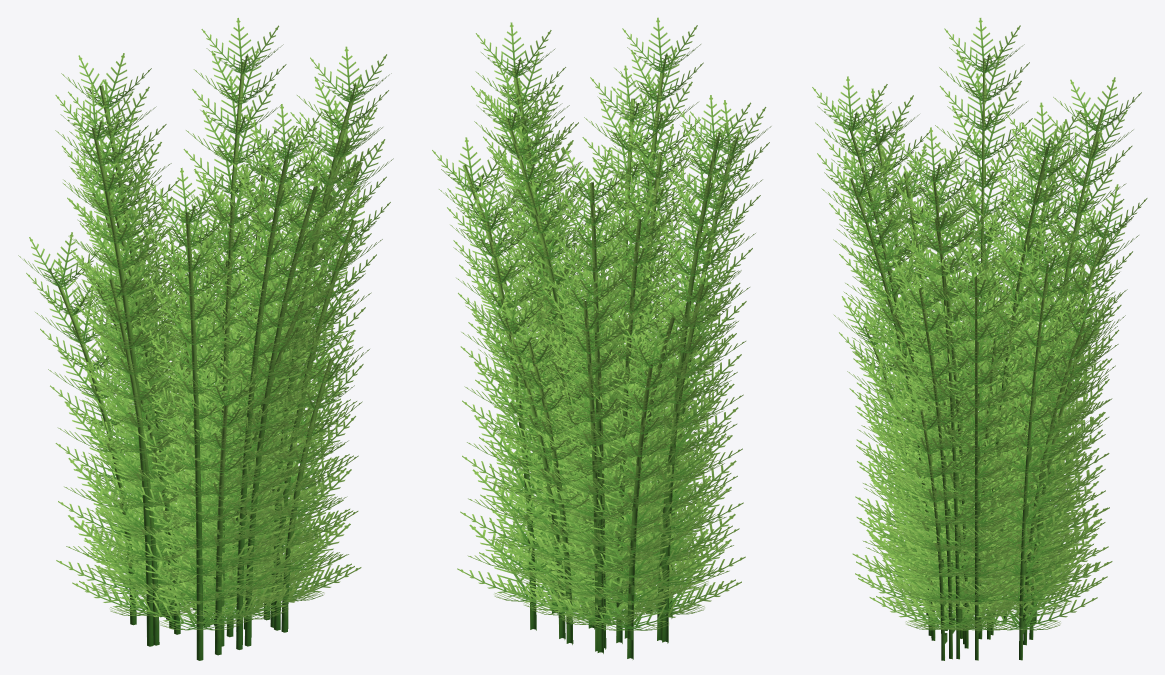
File: limnophila.glb
3 views of the same model, side by side, from view 1: azimuth 30°, elevation 25°; view 2: azimuth 150°, elevation 25°; view 3: azimuth 270°, elevation 25° (orthographic). The views are drawn at different scales.
Visible parts, largest first — view 1: SwayLimno0, SwayLimno1; view 2: SwayLimno0, SwayLimno1; view 3: SwayLimno0, SwayLimno1.
Boxes of the visible parts, <box> form: SwayLimno0: <box>55,18,393,660</box>; SwayLimno1: <box>18,53,390,655</box>; SwayLimno0: <box>432,17,771,652</box>; SwayLimno1: <box>467,65,740,659</box>; SwayLimno0: <box>812,18,1147,660</box>; SwayLimno1: <box>817,77,1141,660</box>.
Size of the model in its own units: 1.29 by 2.07 by 1.18.
Materials: 1 (1 with a texture image).
